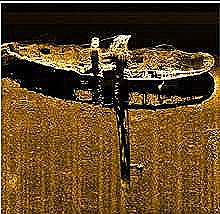ship: (1, 33, 216, 92)
